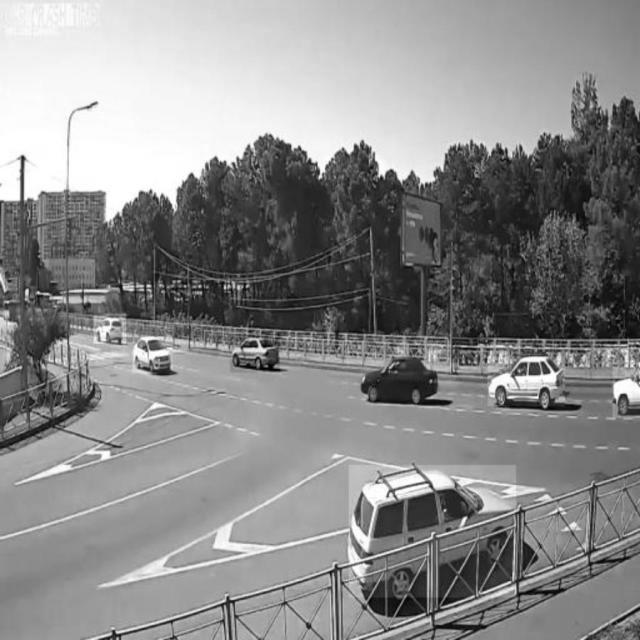vehicle: (349, 466, 516, 598), (360, 352, 438, 406), (487, 357, 565, 407), (230, 334, 281, 372), (613, 361, 640, 418), (132, 337, 173, 374), (95, 314, 127, 344)
